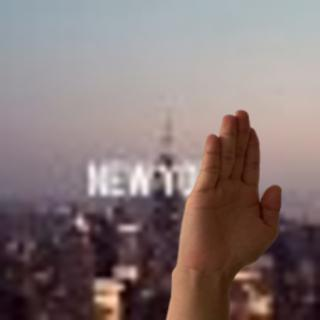RIGHT: (172, 101, 288, 281)
